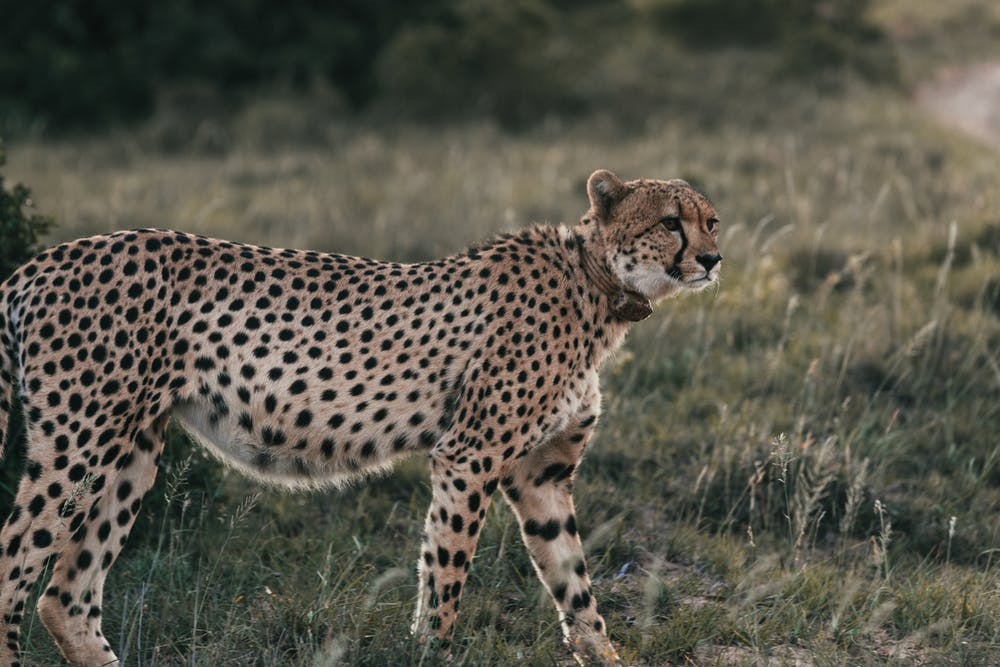cheetah: (577, 160, 727, 298)
